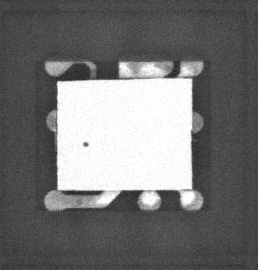DIE_INK: (76, 145, 88, 155)
